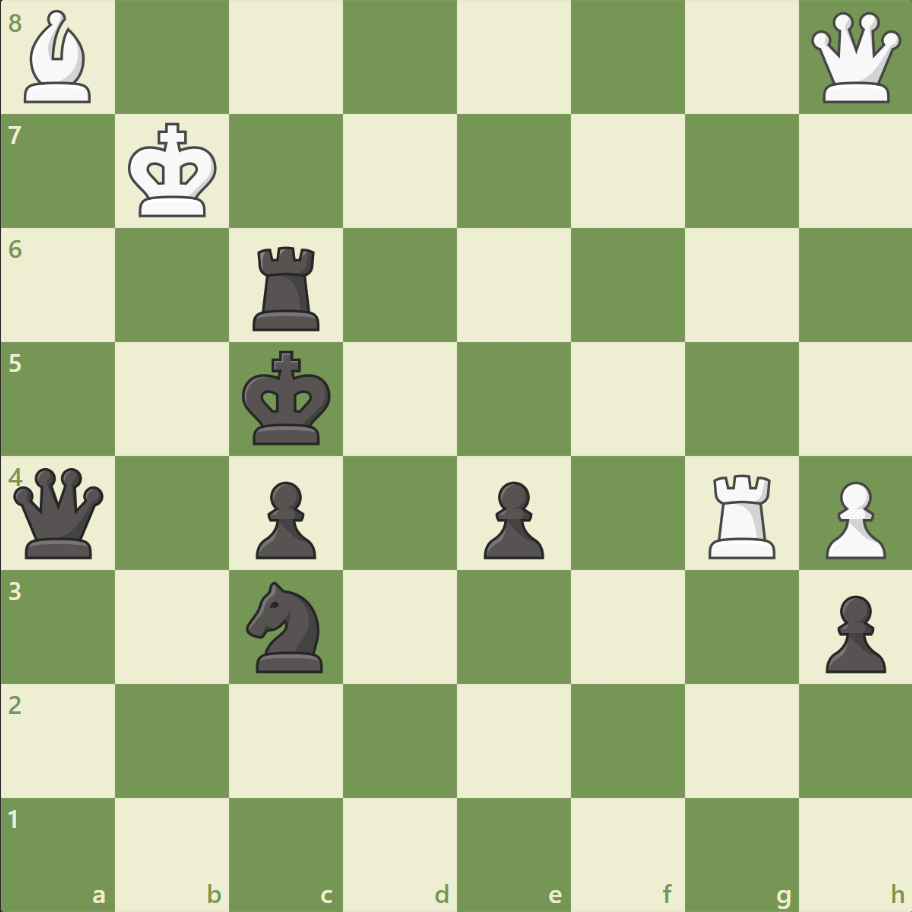B: (17, 6, 101, 109)
K: (124, 117, 224, 225)
P: (815, 473, 889, 564)
Q: (805, 9, 904, 108)
R: (700, 466, 783, 563)
k: (238, 344, 338, 452)
n: (238, 575, 335, 677)
p: (247, 473, 322, 564), (474, 473, 549, 564), (815, 586, 889, 677)
q: (10, 463, 109, 562)
r: (246, 239, 329, 336)
